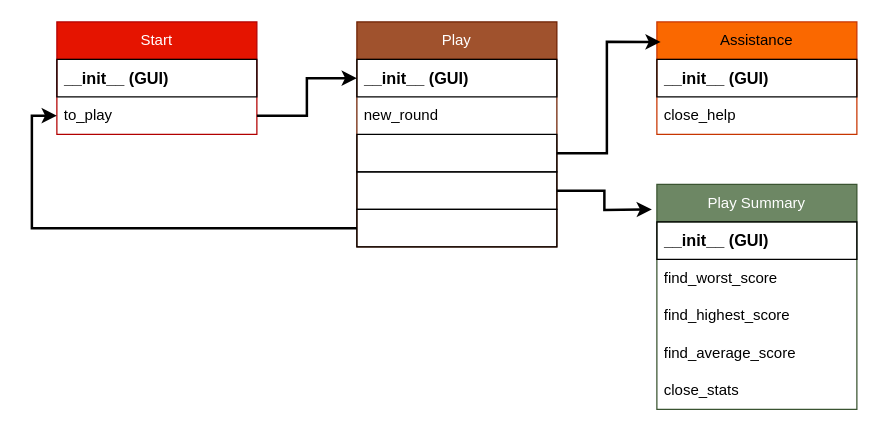
This 879x431 diagram has some shape labels left out. The centre of each missing label's shape, as x and y in pixels:
new_game: point (456, 227)
to_help: point (456, 152)
to_play_summary: point (456, 190)
